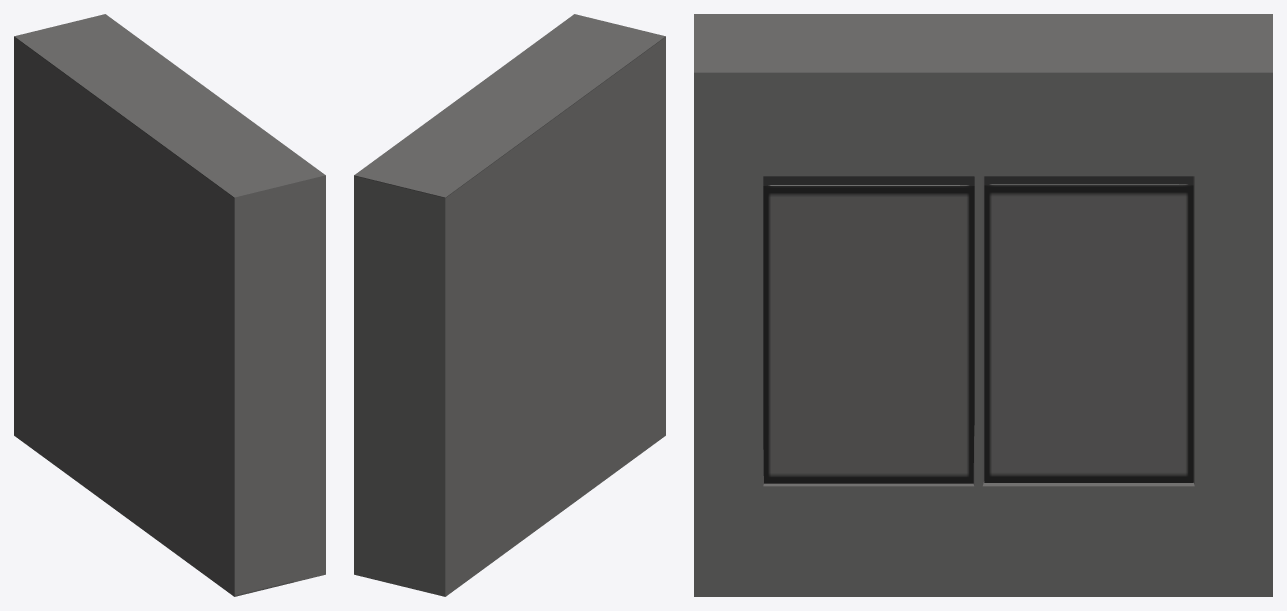
The model's file is Switch.fbx.
3 renders of one model, left to right at view 1: azimuth 30°, elevation 25°; view 2: azimuth 150°, elevation 25°; view 3: azimuth 270°, elevation 25°, orthographic. The views are drawn at different scales.
Visible parts, largest first — view 1: export Switch frame; view 2: export Switch frame; view 3: export Switch frame, export key L, export key R.
Boxes of the visible parts, box(x1,y1,x2,y2) form: export Switch frame: box(14, 14, 325, 596); export Switch frame: box(354, 14, 665, 596); export Switch frame: box(694, 14, 1272, 596); export key L: box(763, 176, 974, 483); export key R: box(984, 176, 1193, 482).
Bounding box in the file's own units: 3.55 × 13.03 × 13.03.
